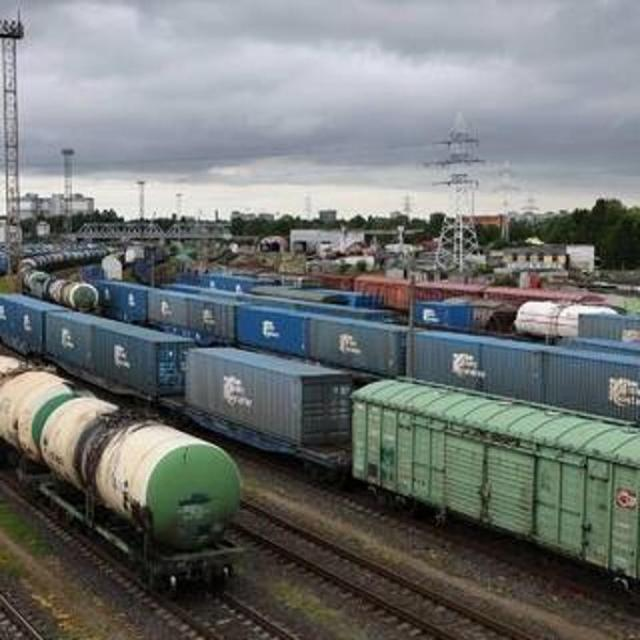boxcar: (344, 364, 640, 605)
container: (182, 339, 354, 458), (406, 322, 544, 404), (542, 340, 640, 426), (94, 318, 195, 396), (310, 311, 406, 378)
flatcar: (159, 390, 352, 482)
tank: (35, 384, 254, 616), (0, 348, 77, 488), (511, 293, 620, 342), (48, 275, 100, 315)
